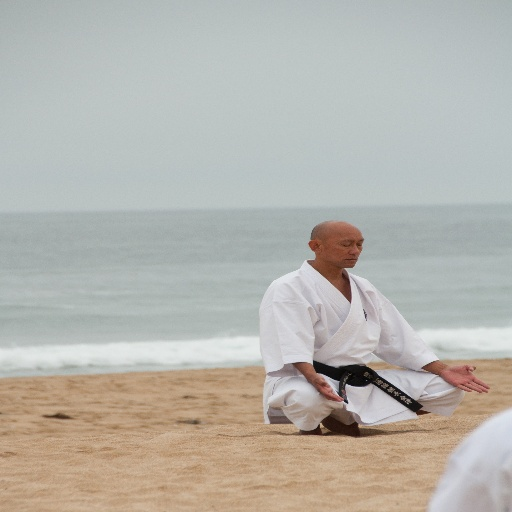hand: (427, 356, 491, 400), (306, 375, 346, 401)
